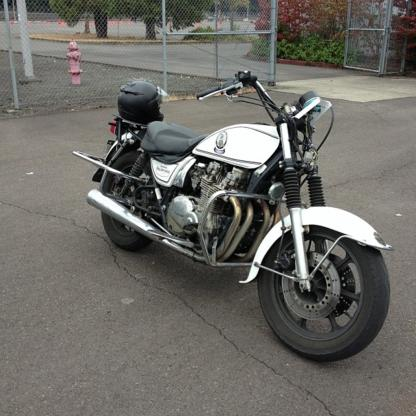Helmet: (114, 79, 165, 124)
